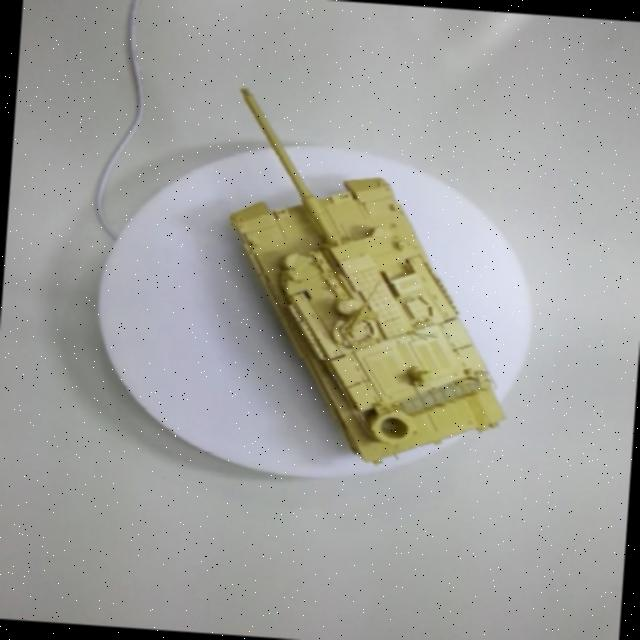korea tank: (188, 76, 533, 520)
